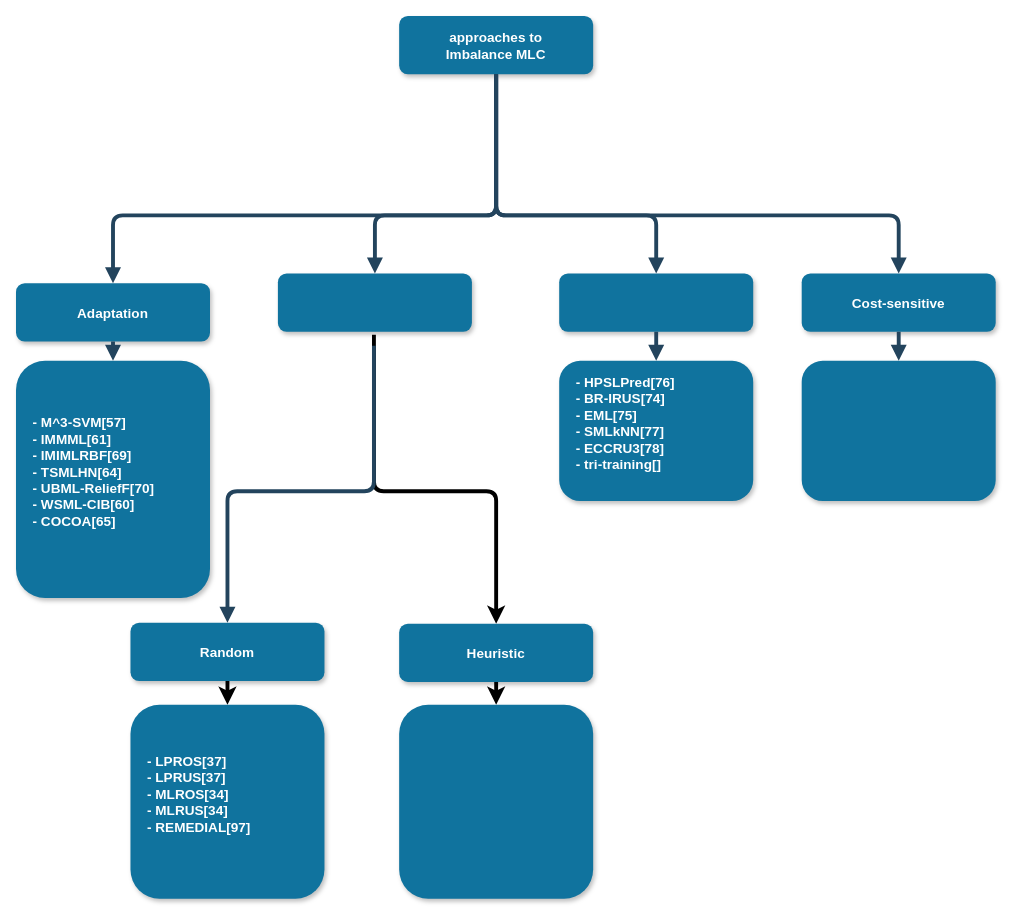
This 1012x915 diagram has some shape labels left out. Each missing label, with the centre of its shape:
- CSRankSVM[83] - CPNL[84] - SOSHF[82]: [899,431]
- MLeNN[44] - MLSMOTE[50] - MLSOL[51] - SMOTE[48] - MC-RBO[] - BR-CCR[]: [496,802]
Ensemble: [657,303]
Resampling: [375,303]
